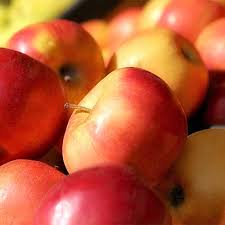apple: (5, 22, 105, 124)
